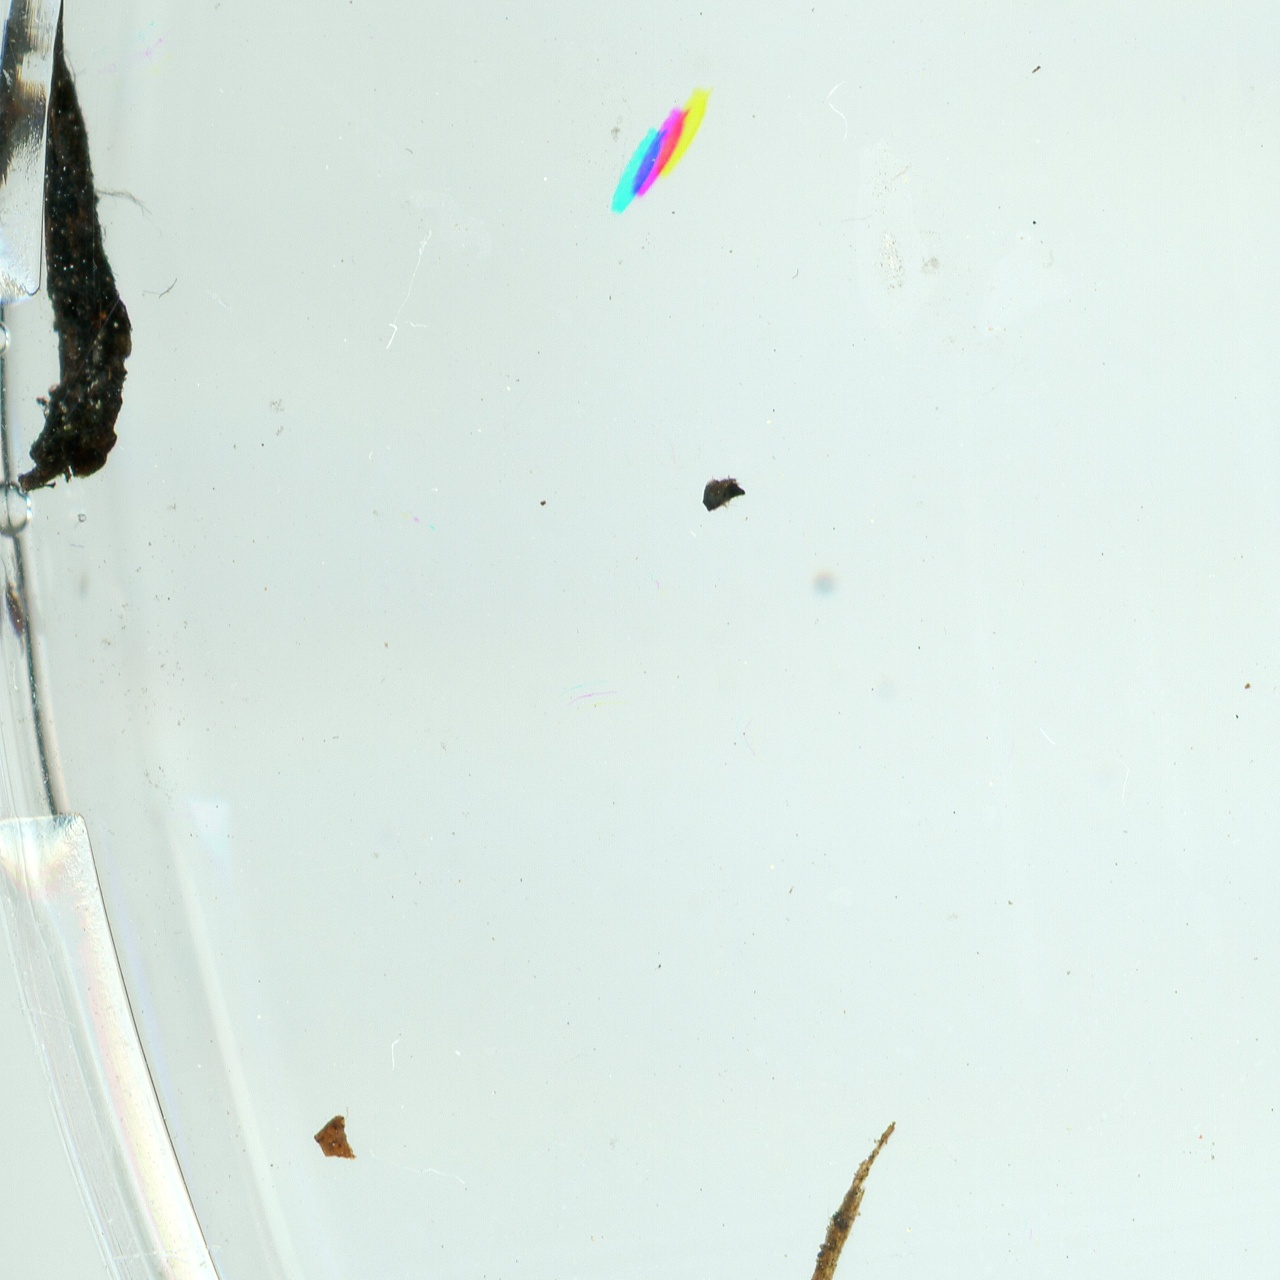arthropod: (617, 90, 701, 215)
